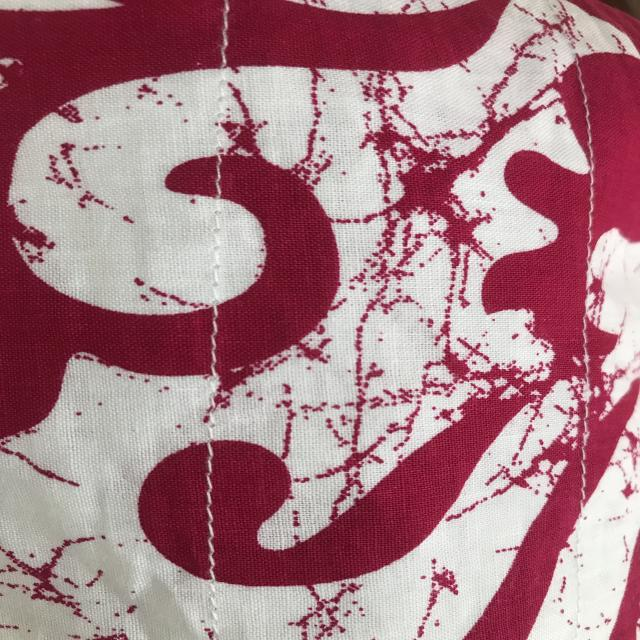good: (195, 452, 231, 568), (574, 178, 603, 242), (572, 433, 597, 506), (205, 315, 230, 363)
